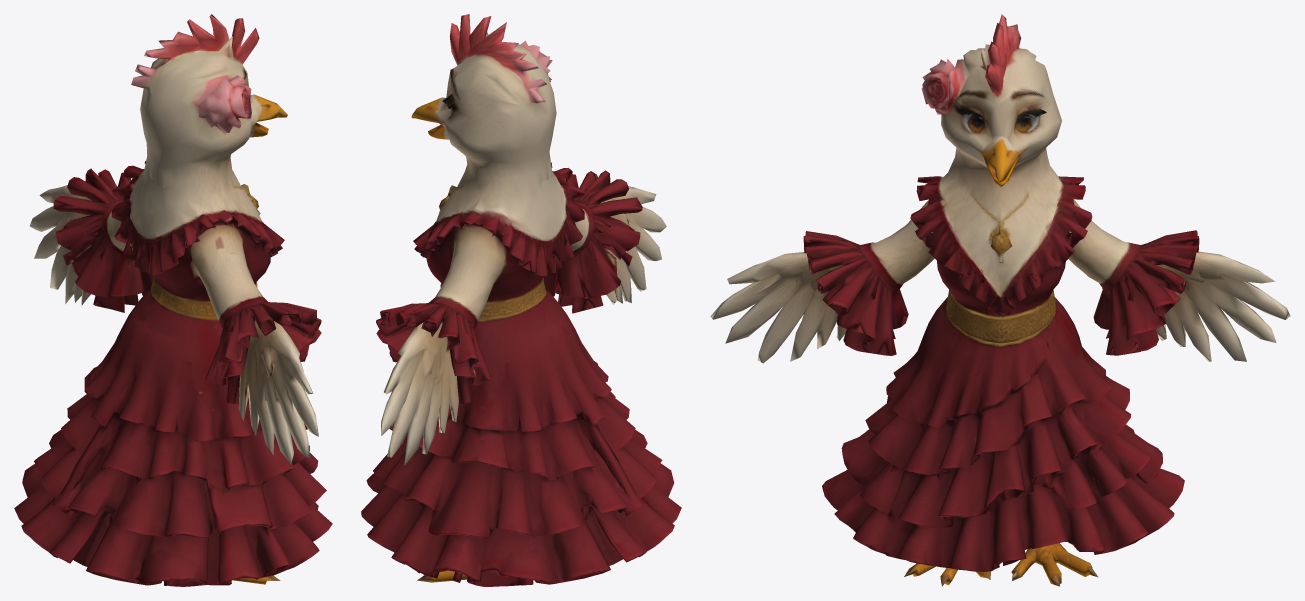
The model's file is rosalinda.glb.
The picture shows the model from 3 angles, left to right: view 1: azimuth 30°, elevation 25°; view 2: azimuth 150°, elevation 25°; view 3: azimuth 270°, elevation 25°; orthographic projection.
Parts seen in each view (by area): view 1: tripo_node_378f9927-d686-473c-89d1-c32a256f7064; view 2: tripo_node_378f9927-d686-473c-89d1-c32a256f7064; view 3: tripo_node_378f9927-d686-473c-89d1-c32a256f7064.
Boxes of the visible parts, x1,y1,x2,y2 form: tripo_node_378f9927-d686-473c-89d1-c32a256f7064: (14, 14, 332, 586); tripo_node_378f9927-d686-473c-89d1-c32a256f7064: (361, 14, 681, 586); tripo_node_378f9927-d686-473c-89d1-c32a256f7064: (710, 14, 1290, 586).
Bounding box in the file's own units: 0.4382 × 0.85 × 0.8173.
1 material, 1 textured.
